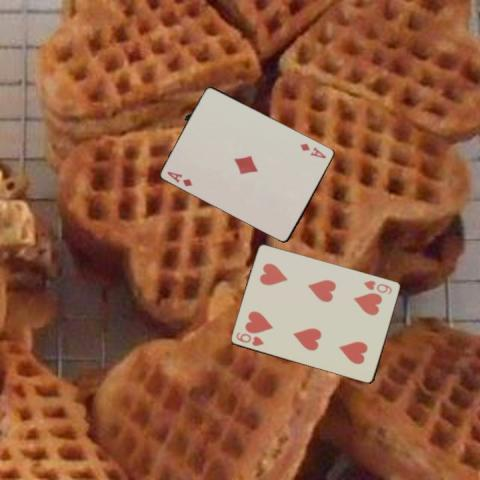6h: (361, 278, 393, 296), (234, 329, 266, 347)
Ad: (297, 140, 327, 160), (165, 169, 194, 188)
